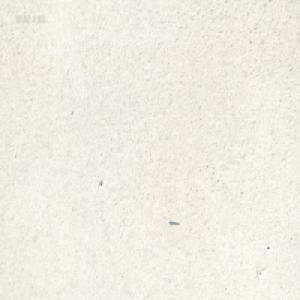Nail: (169, 218, 179, 226)
